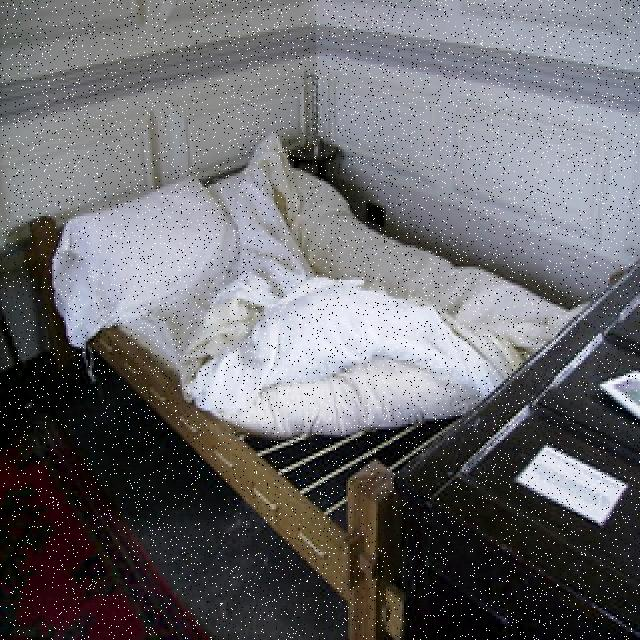bed: (54, 137, 640, 571)
